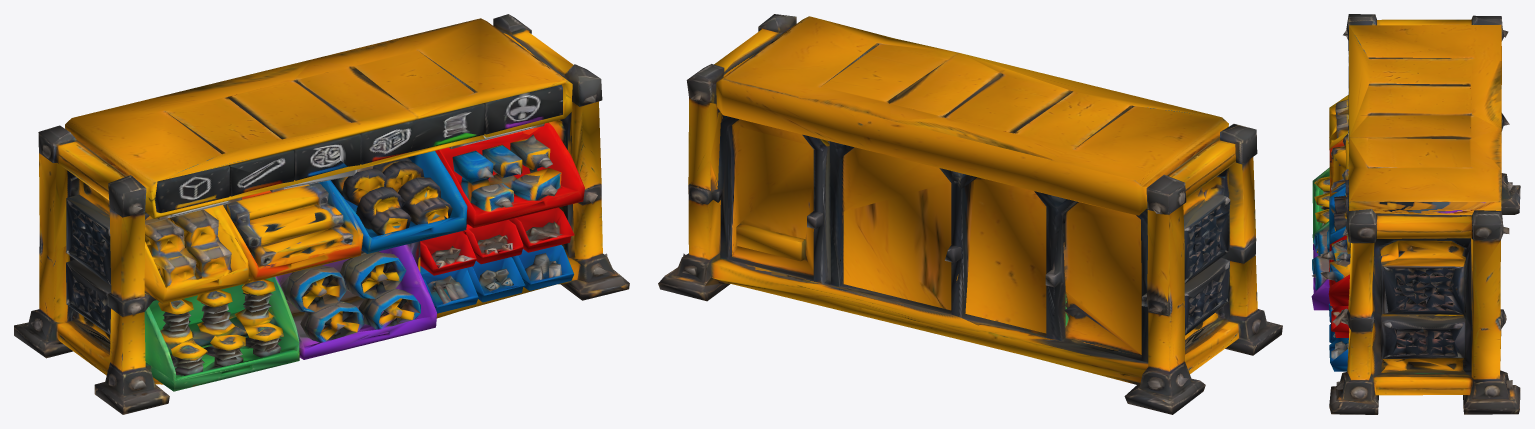
The model's file is rack_tool_01.glb.
3 renders of one model, left to right at view 1: azimuth 30°, elevation 25°; view 2: azimuth 150°, elevation 25°; view 3: azimuth 270°, elevation 25°, orthographic. The views are drawn at different scales.
Parts seen in each view (by area): view 1: rack_tool_01; view 2: rack_tool_01; view 3: rack_tool_01.
Boxes of the visible parts, x1,y1,x2,y2 form: rack_tool_01: (14, 14, 629, 414); rack_tool_01: (658, 14, 1282, 414); rack_tool_01: (1311, 14, 1520, 414).
Bounding box in the file's own units: 9.99 × 4.04 × 3.99.
1 material, 1 textured.
